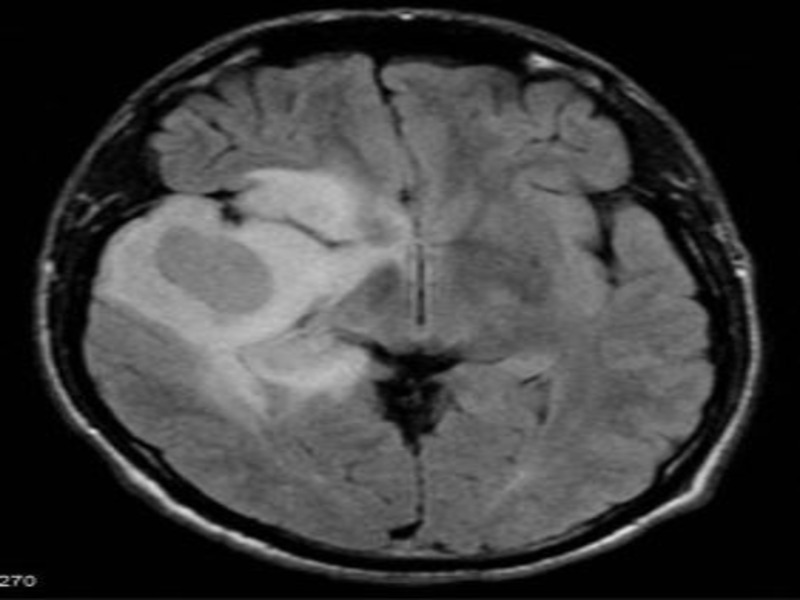tumor: (90, 160, 397, 396)
